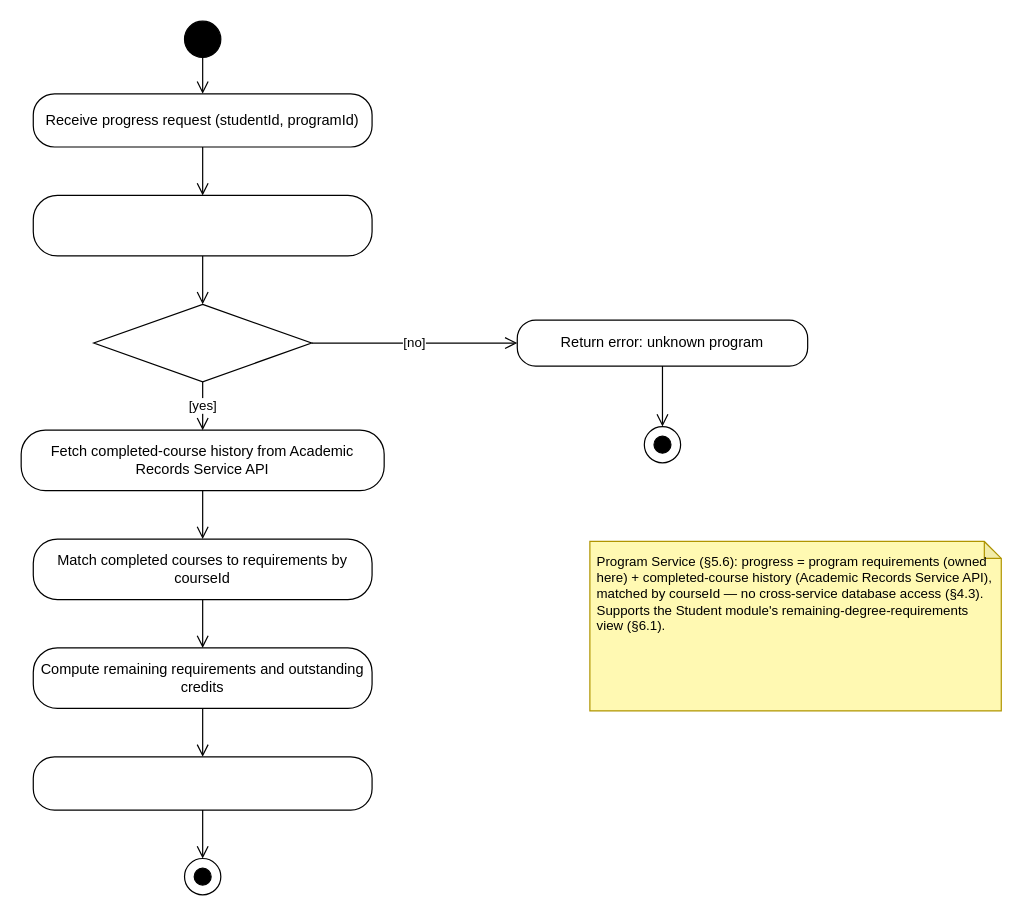
The diagram is 1022 pixels wide and 916 high, and some of its shapes have lost their labels. Here are the shapes that lost their labels. From the top down, the centre of each, then its label:
At (x=202, y=225): "Load DegreeProgram and ProgramRequirements (ProgramRepository)".
At (x=202, y=342): "program found?".
At (x=202, y=783): "Return academic-progress summary".
